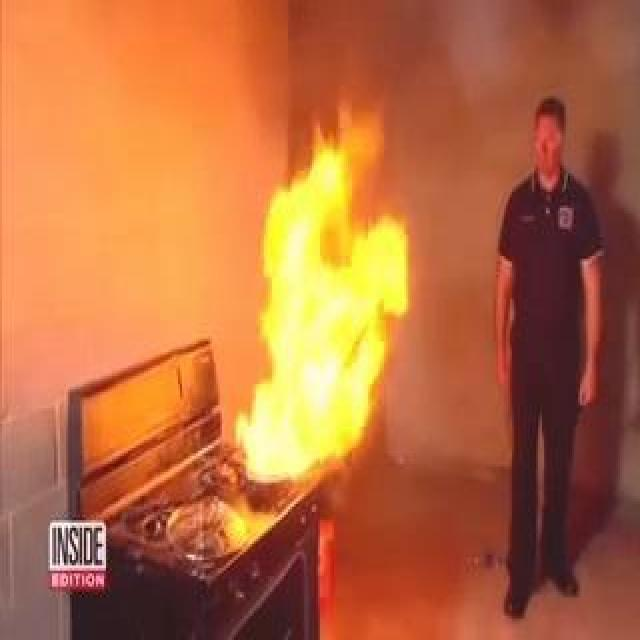Fire: (237, 148, 412, 484)
